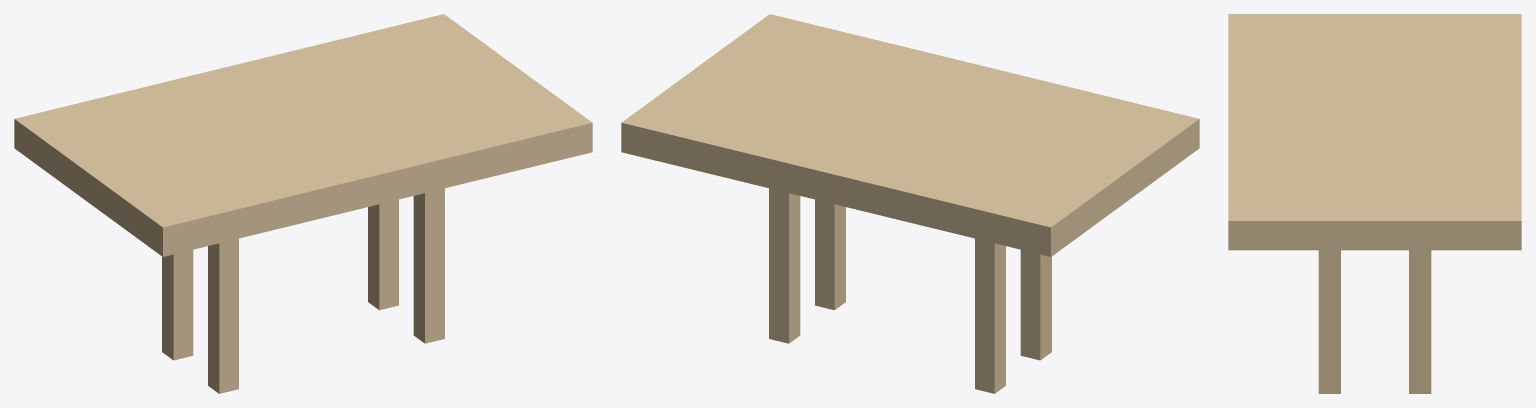
Rendered from Demo.glb.
3 renders of one model, left to right at view 1: azimuth 30°, elevation 25°; view 2: azimuth 150°, elevation 25°; view 3: azimuth 270°, elevation 25°, orthographic.
Parts seen in each view (by area): view 1: top.panel, leg_2, leg_1, leg_3, leg_4; view 2: top.panel, leg_4, leg_3, leg_1, leg_2; view 3: top.panel, leg_2, leg_4.
Part boxes in pixels (left/top/right/bottom): top.panel: left=14, top=14, right=592, bottom=256; leg_2: left=413, top=188, right=444, bottom=343; leg_1: left=208, top=238, right=238, bottom=393; leg_3: left=162, top=250, right=193, bottom=360; leg_4: left=368, top=199, right=398, bottom=310; top.panel: left=621, top=14, right=1199, bottom=256; leg_4: left=769, top=188, right=800, bottom=343; leg_3: left=975, top=238, right=1005, bottom=393; leg_1: left=1020, top=250, right=1051, bottom=360; leg_2: left=815, top=199, right=845, bottom=310; top.panel: left=1228, top=14, right=1521, bottom=250; leg_2: left=1318, top=250, right=1340, bottom=393; leg_4: left=1409, top=250, right=1431, bottom=393.
Size of the model in its own units: 1.52 by 0.76 by 0.91.
